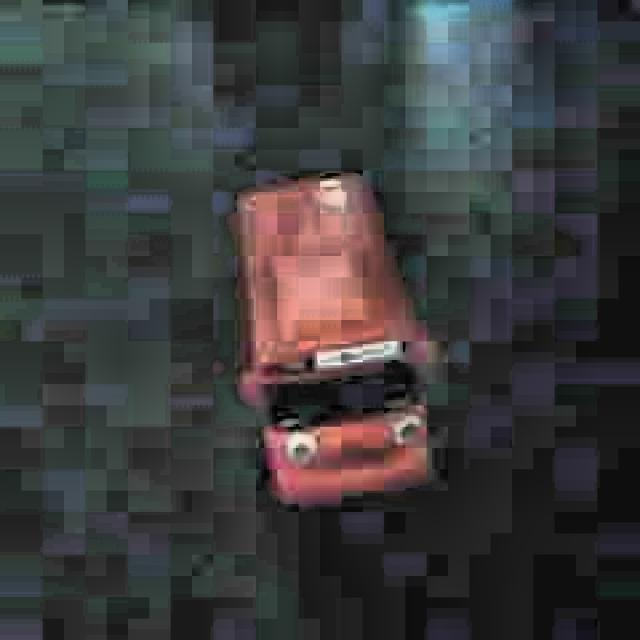bus: (211, 142, 449, 522)
